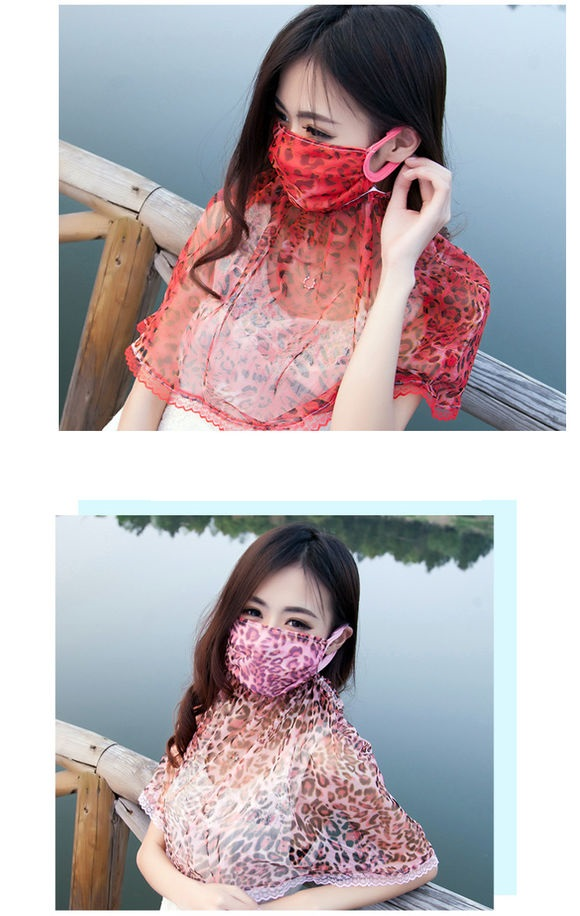face_mask: (273, 43, 377, 207), (226, 562, 330, 696)
